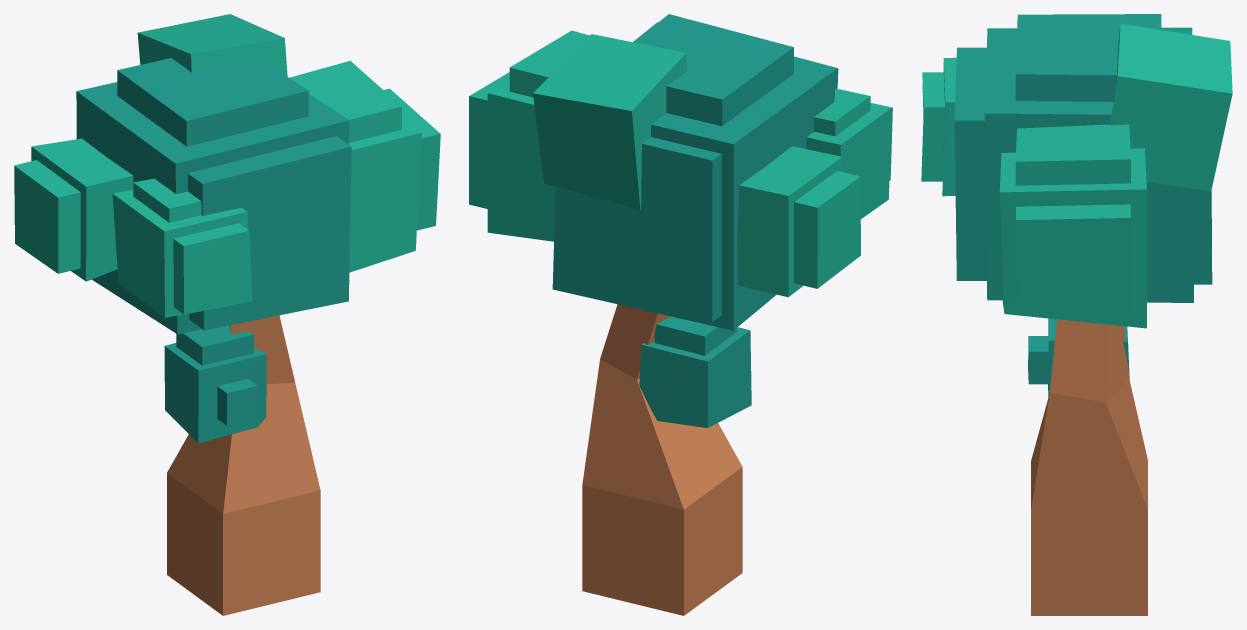
The model's file is tree3.fbx.
The picture shows the model from 3 angles, left to right: view 1: azimuth 30°, elevation 25°; view 2: azimuth 150°, elevation 25°; view 3: azimuth 270°, elevation 25°; orthographic projection. The views are drawn at different scales.
Visible parts, largest first — view 1: pCube25, pCube23, pCube28, pCube29, pCube26, pCube24, pCube27; view 2: pCube25, pCube23, pCube27, pCube26, pCube28, pCube24, pCube29; view 3: pCube25, pCube23, pCube28, pCube27, pCube29, pCube24.
Part boxes in pixels (x1=…): pCube25: x1=76, y1=57, x2=351, y2=334; pCube23: x1=167, y1=315, x2=320, y2=615; pCube28: x1=289, y1=60, x2=440, y2=272; pCube29: x1=112, y1=178, x2=252, y2=317; pCube26: x1=14, y1=138, x2=133, y2=281; pCube24: x1=164, y1=325, x2=266, y2=443; pCube27: x1=137, y1=14, x2=287, y2=76; pCube25: x1=552, y1=14, x2=838, y2=330; pCube23: x1=582, y1=304, x2=742, y2=615; pCube27: x1=533, y1=34, x2=687, y2=209; pCube26: x1=737, y1=146, x2=860, y2=297; pCube28: x1=469, y1=30, x2=589, y2=241; pCube24: x1=639, y1=316, x2=751, y2=427; pCube29: x1=806, y1=88, x2=892, y2=218; pCube25: x1=954, y1=14, x2=1212, y2=302; pCube23: x1=1031, y1=319, x2=1147, y2=615; pCube28: x1=998, y1=124, x2=1146, y2=328; pCube27: x1=1110, y1=23, x2=1232, y2=191; pCube29: x1=921, y1=57, x2=956, y2=196; pCube24: x1=1028, y1=318, x2=1129, y2=396.
Bounding box in the file's own units: 219 × 311 × 160.
